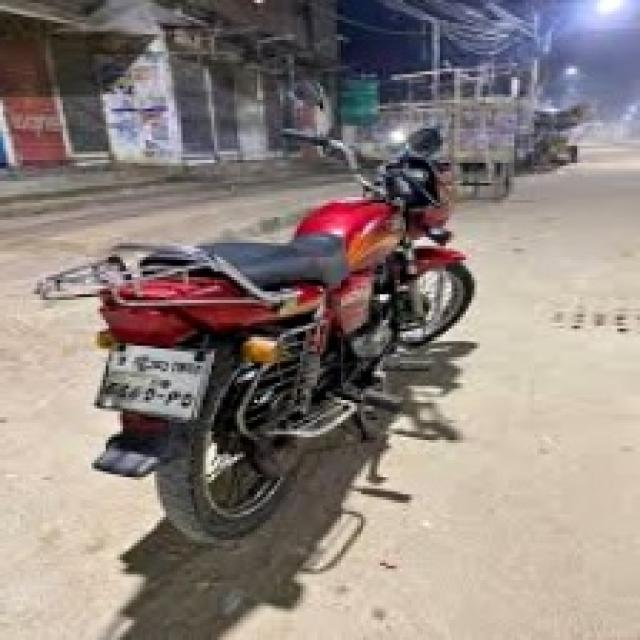bike: (75, 127, 509, 527)
